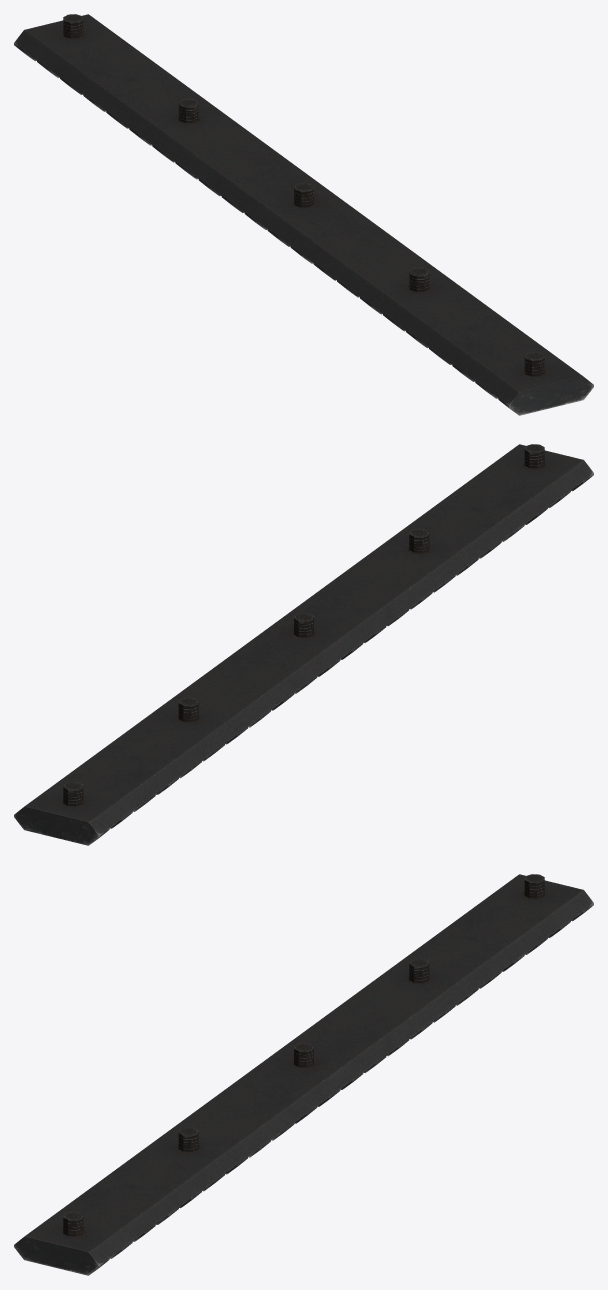
3 renders of one model, top to bottom at view 1: azimuth 30°, elevation 25°; view 2: azimuth 150°, elevation 25°; view 3: azimuth 330°, elevation 25°, orthographic.
Parts seen in each view (by area): view 1: TW_5df35ea9c41b2312ea3334d8_PZ_Import; view 2: TW_5df35ea9c41b2312ea3334d8_PZ_Import; view 3: TW_5df35ea9c41b2312ea3334d8_PZ_Import.
Part boxes in pixels (bbox=[...]): TW_5df35ea9c41b2312ea3334d8_PZ_Import: bbox=[14, 14, 593, 415]; TW_5df35ea9c41b2312ea3334d8_PZ_Import: bbox=[14, 444, 593, 845]; TW_5df35ea9c41b2312ea3334d8_PZ_Import: bbox=[14, 874, 593, 1275].
Size of the model in its own units: 0.0123 by 0.1242 by 0.00546.
1 material, 1 textured.
